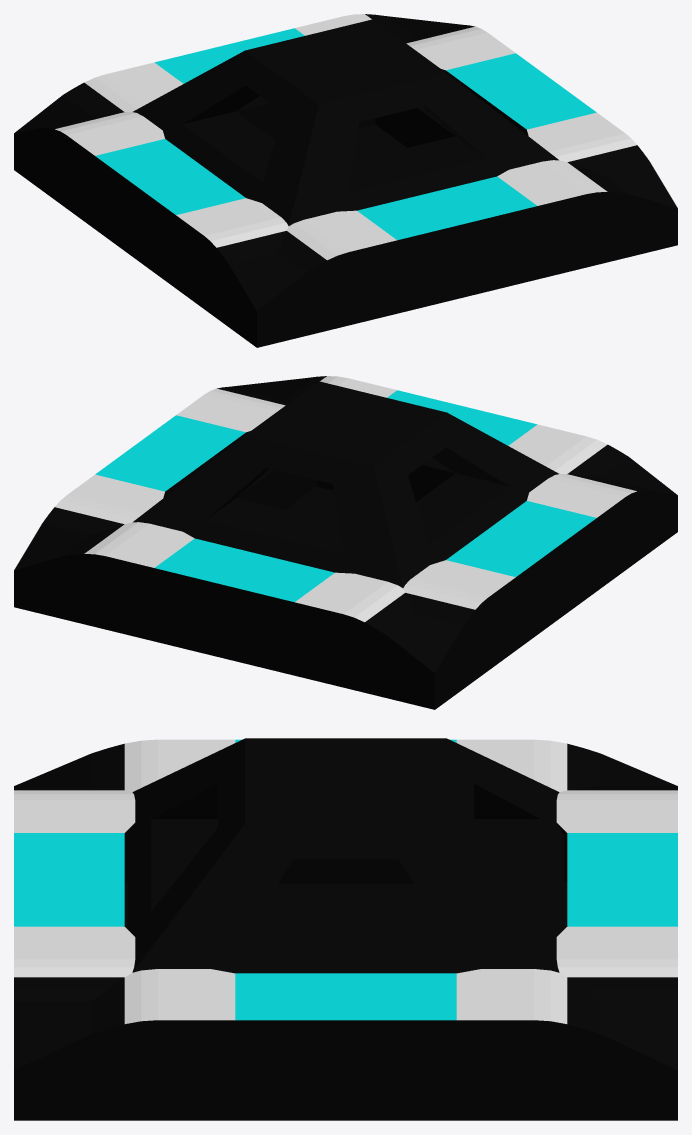
Rendered from playerSpawnNode.fbx.
3 views of the same model, one above another, from view 1: azimuth 30°, elevation 25°; view 2: azimuth 150°, elevation 25°; view 3: azimuth 270°, elevation 25° (orthographic). The views are drawn at different scales.
Parts seen in each view (by area): view 1: Plane, Cube; view 2: Plane, Cube; view 3: Plane, Cube.
Part boxes in pixels (left/top/right/bottom): Plane: left=14, top=14, right=677, bottom=347; Cube: left=133, top=19, right=558, bottom=225; Plane: left=14, top=376, right=677, bottom=709; Cube: left=133, top=381, right=558, bottom=587; Plane: left=14, top=739, right=677, bottom=1120; Cube: left=127, top=738, right=564, bottom=973.
Size of the model in its own units: 600 by 198 by 600.
